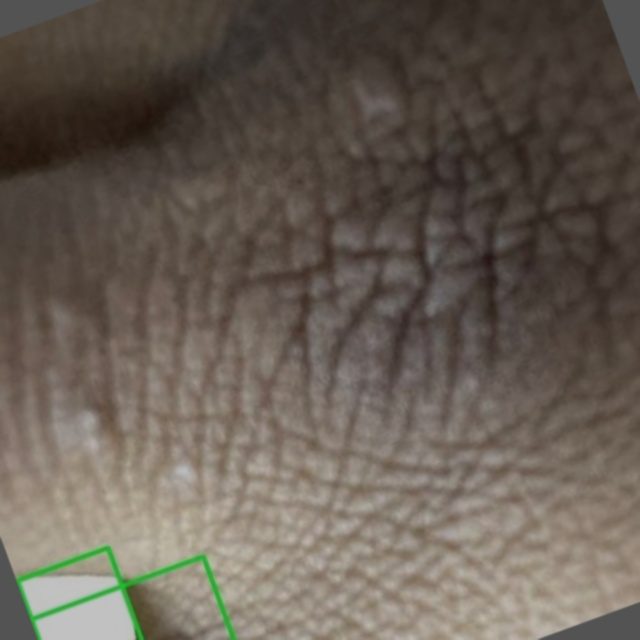Contact Dermatitis: (17, 547, 141, 639)
